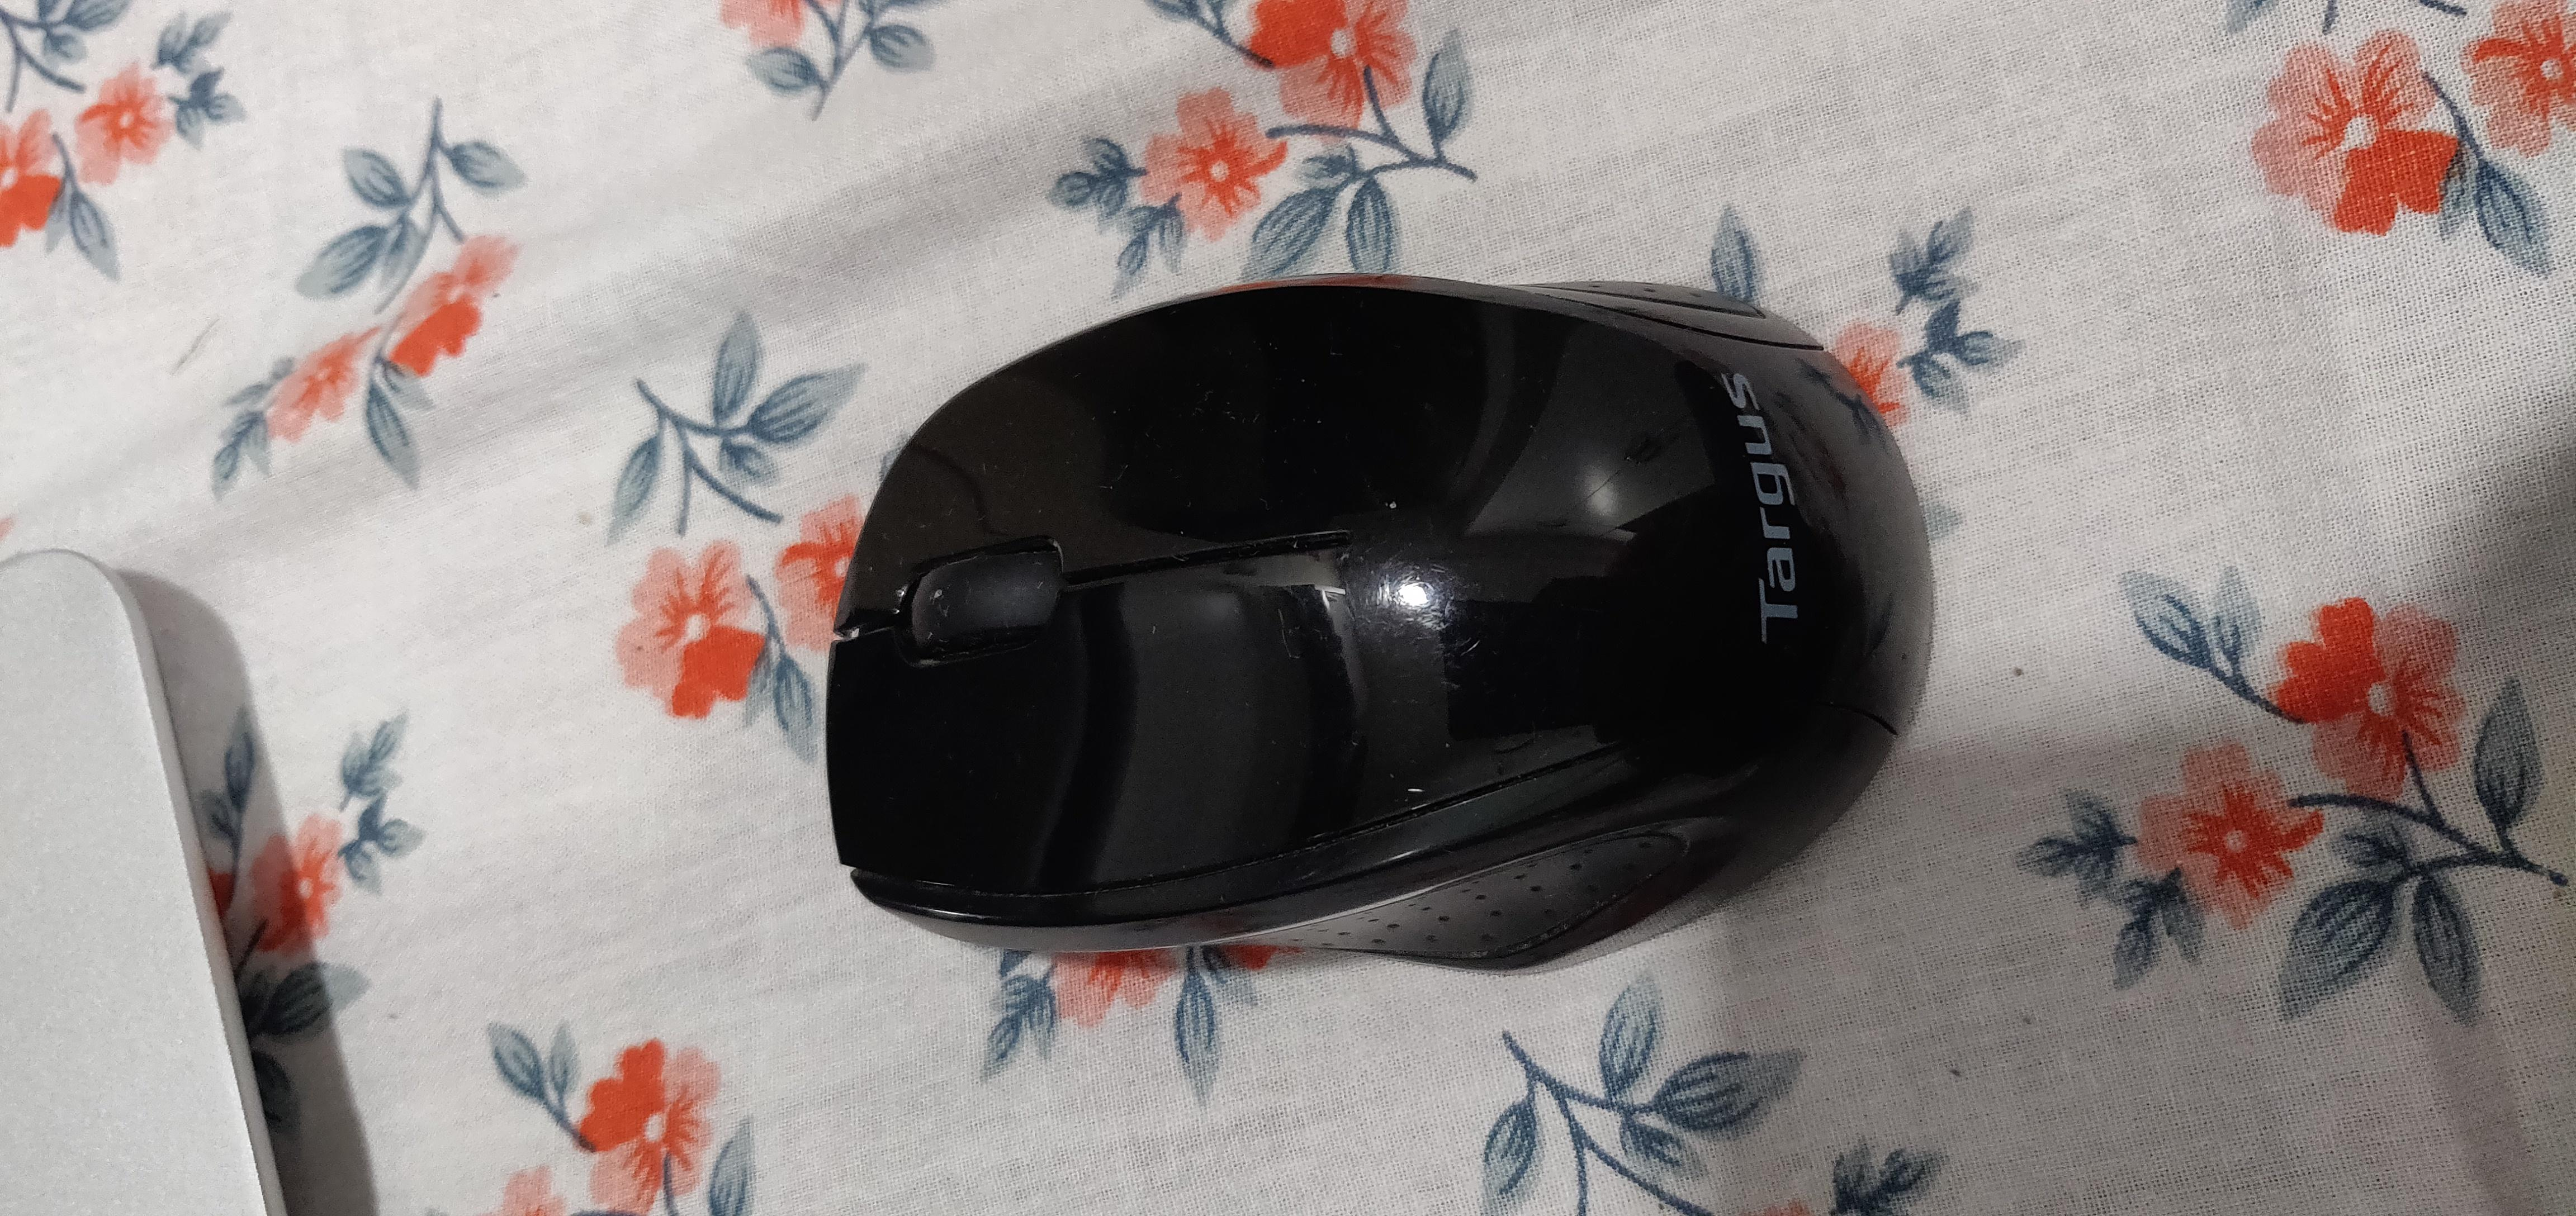mouse: (805, 250, 1968, 1027)
